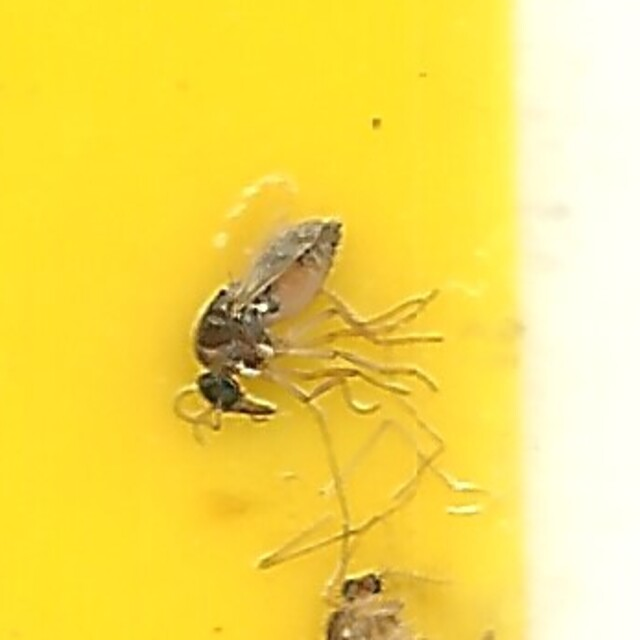Brachycera: (184, 203, 456, 437)
